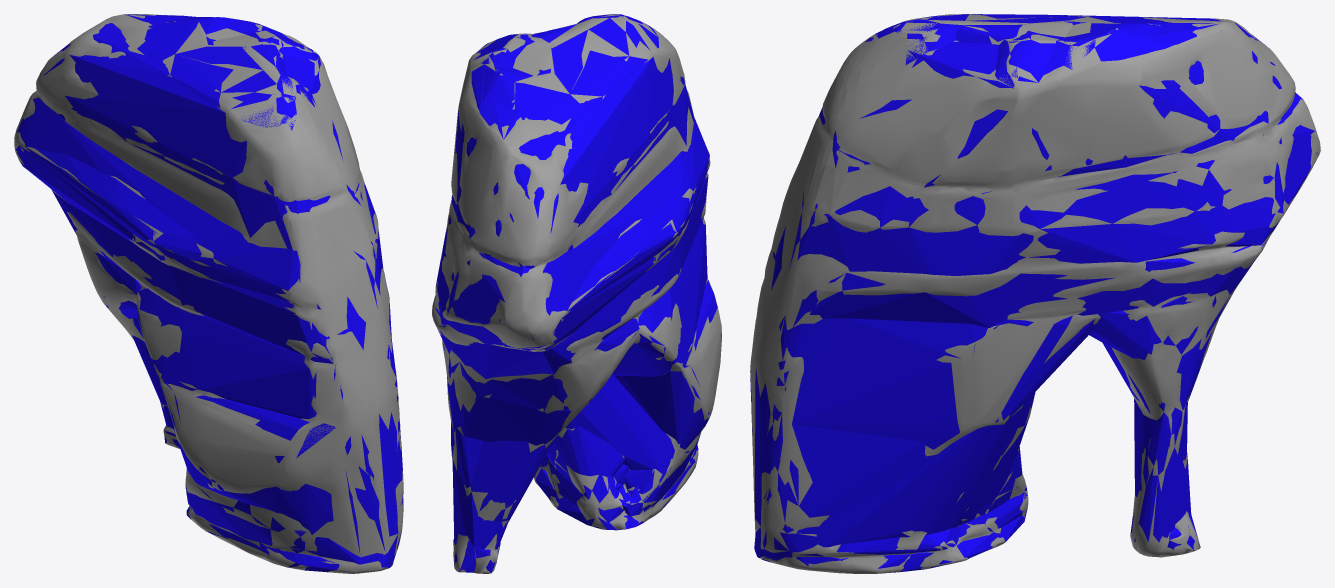
The model's file is Cliff_big_13.fbx.
3 renders of one model, left to right at view 1: azimuth 30°, elevation 25°; view 2: azimuth 150°, elevation 25°; view 3: azimuth 270°, elevation 25°, orthographic. The views are drawn at different scales.
Visible parts, largest first — view 1: Cliff_big_13_LOD0, Cliff_big_13_COL02, Cliff_big_13_COL00, Cliff_big_13_COL14, Cliff_big_13_COL13, Cliff_big_13_COL15, Cliff_big_13_COL01, Cliff_big_13_COL04, Cliff_big_13_COL16, Cliff_big_13_COL03, Cliff_big_13_COL05, Cliff_big_13_COL11 (+5 smaller); view 2: Cliff_big_13_LOD0, Cliff_big_13_COL02, Cliff_big_13_COL00, Cliff_big_13_COL13, Cliff_big_13_COL16, Cliff_big_13_COL14, Cliff_big_13_COL15, Cliff_big_13_COL01, Cliff_big_13_COL31, Cliff_big_13_COL33, Cliff_big_13_COL04, Cliff_big_13_COL05 (+13 smaller); view 3: Cliff_big_13_LOD0, Cliff_big_13_COL00, Cliff_big_13_COL14, Cliff_big_13_COL16, Cliff_big_13_COL13, Cliff_big_13_COL15, Cliff_big_13_COL02, Cliff_big_13_COL35, Cliff_big_13_COL30, Cliff_big_13_COL11, Cliff_big_13_COL12, Cliff_big_13_COL32 (+9 smaller).
Boxes of the visible parts, x1,y1,x2,y2 form: Cliff_big_13_LOD0: [14, 14, 403, 573]; Cliff_big_13_COL02: [43, 14, 362, 249]; Cliff_big_13_COL00: [16, 98, 383, 309]; Cliff_big_13_COL14: [137, 288, 398, 418]; Cliff_big_13_COL13: [52, 190, 392, 363]; Cliff_big_13_COL15: [165, 383, 403, 554]; Cliff_big_13_COL01: [26, 147, 201, 260]; Cliff_big_13_COL04: [170, 44, 285, 107]; Cliff_big_13_COL16: [185, 468, 400, 567]; Cliff_big_13_COL03: [221, 67, 314, 130]; Cliff_big_13_COL05: [137, 17, 237, 74]; Cliff_big_13_COL11: [284, 93, 345, 176]; Cliff_big_13_LOD0: [432, 14, 721, 573]; Cliff_big_13_COL02: [452, 32, 694, 268]; Cliff_big_13_COL00: [435, 118, 709, 351]; Cliff_big_13_COL13: [435, 176, 708, 379]; Cliff_big_13_COL16: [546, 375, 701, 499]; Cliff_big_13_COL14: [611, 221, 707, 376]; Cliff_big_13_COL15: [614, 280, 721, 449]; Cliff_big_13_COL01: [568, 194, 689, 311]; Cliff_big_13_COL31: [447, 376, 571, 445]; Cliff_big_13_COL33: [470, 436, 556, 522]; Cliff_big_13_COL04: [531, 23, 647, 96]; Cliff_big_13_COL05: [482, 64, 602, 124]; Cliff_big_13_LOD0: [750, 14, 1320, 573]; Cliff_big_13_COL00: [789, 92, 1317, 275]; Cliff_big_13_COL14: [776, 315, 1094, 449]; Cliff_big_13_COL16: [754, 392, 1035, 560]; Cliff_big_13_COL13: [771, 226, 1266, 327]; Cliff_big_13_COL15: [750, 369, 937, 533]; Cliff_big_13_COL02: [818, 15, 1295, 187]; Cliff_big_13_COL35: [1138, 447, 1191, 542]; Cliff_big_13_COL30: [1089, 296, 1230, 359]; Cliff_big_13_COL11: [833, 31, 907, 123]; Cliff_big_13_COL12: [792, 128, 1123, 212]; Cliff_big_13_COL32: [1141, 402, 1187, 486].
Size of what is drawn, in the model's own units: 972 by 2124 by 2133.
